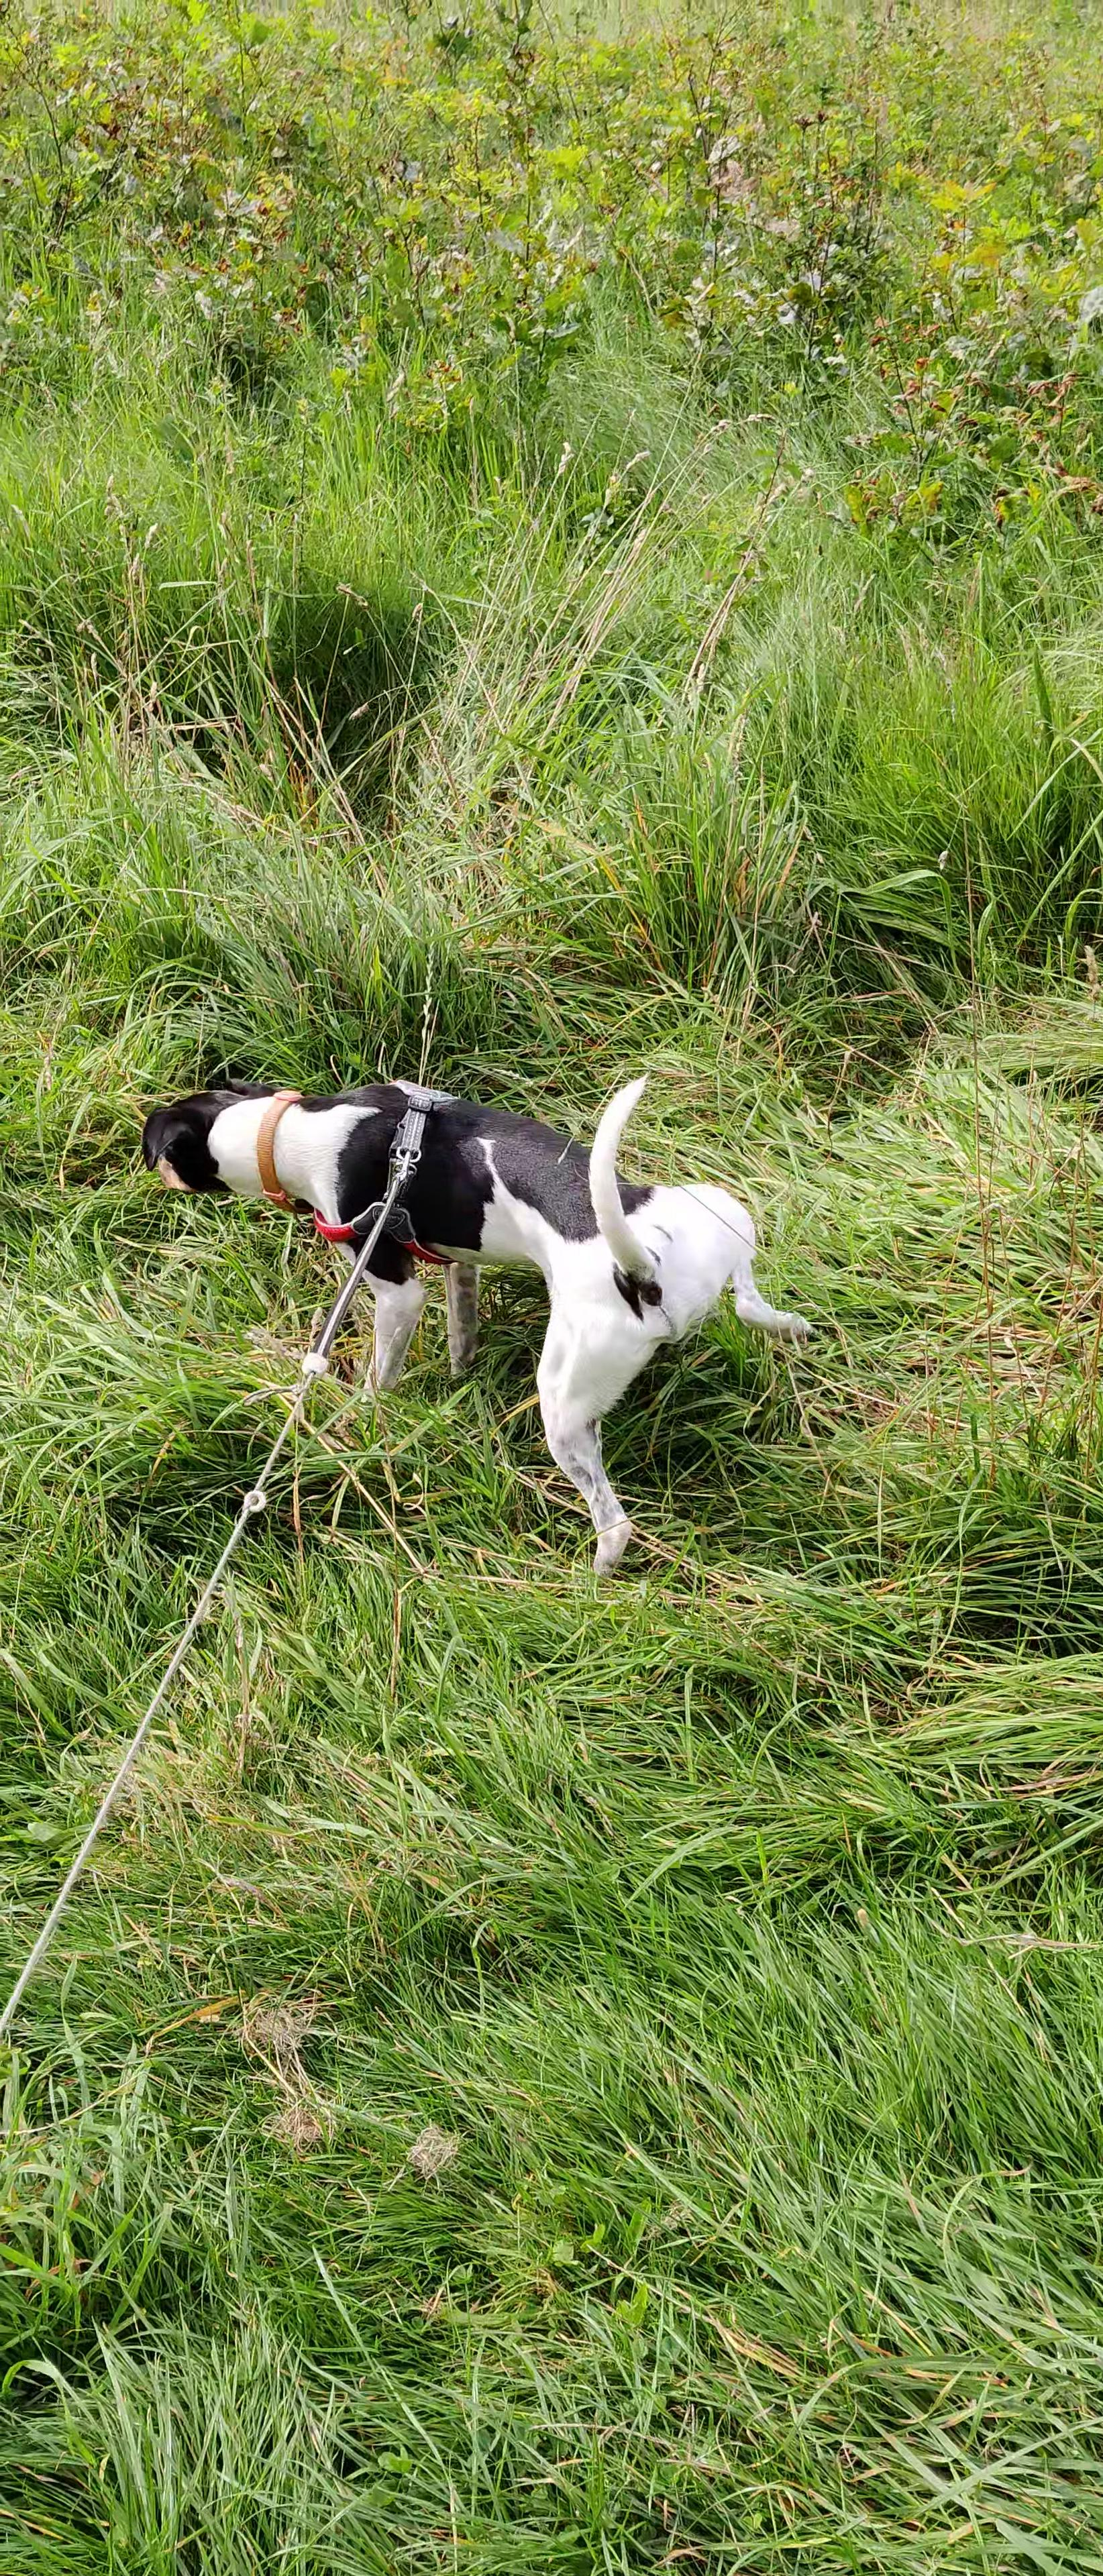Dog: (133, 1053, 814, 1577)
